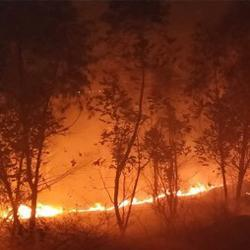fire: (35, 204, 62, 217), (180, 184, 209, 195), (16, 202, 32, 221), (121, 197, 154, 205), (88, 203, 107, 211)
